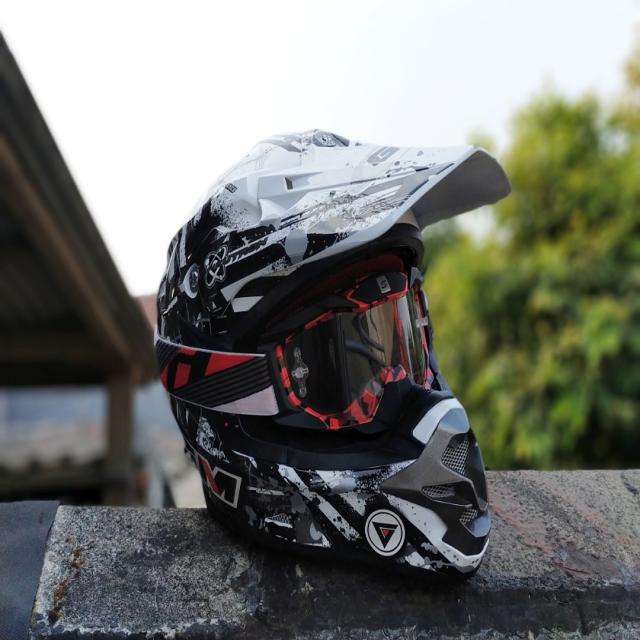Helm: (147, 119, 521, 580)
